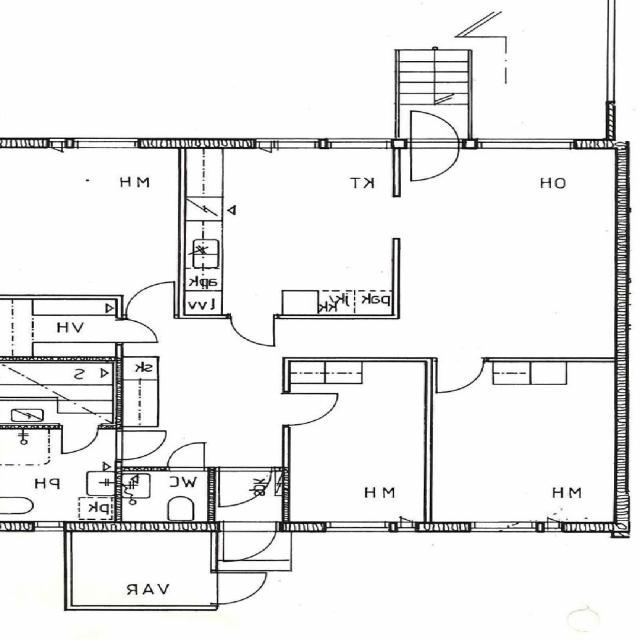door: (224, 522, 276, 565), (411, 138, 459, 180), (220, 467, 272, 504), (411, 108, 459, 148), (210, 572, 266, 604), (283, 394, 338, 425), (437, 357, 484, 392), (126, 284, 174, 318), (116, 432, 168, 459), (231, 315, 274, 346), (168, 444, 205, 471), (63, 425, 99, 452), (116, 320, 158, 343)
